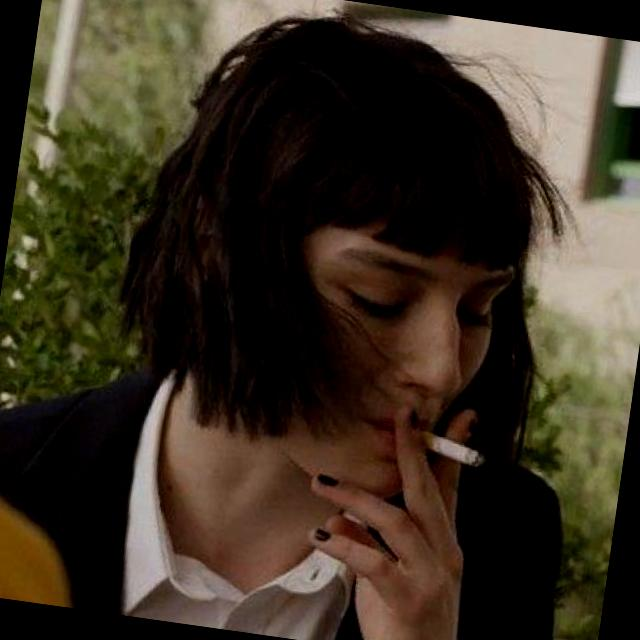smoke: (369, 400, 532, 498)
